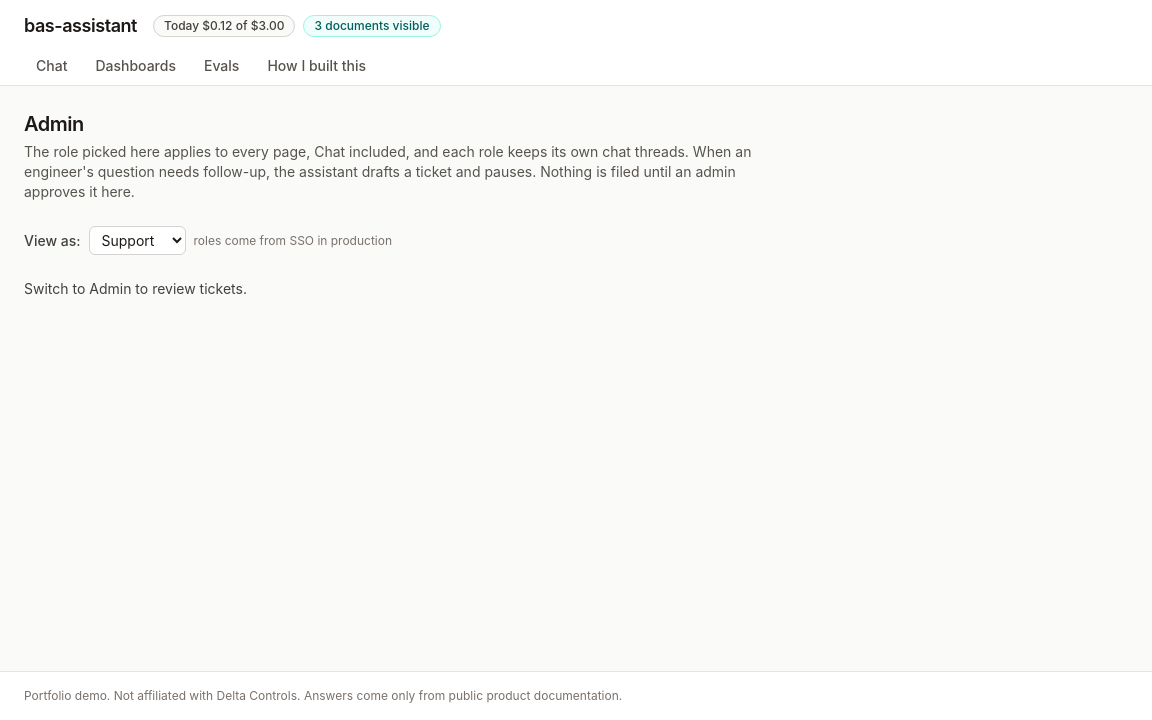
Test: viewing as Engineer on #/admin sends the engineer role and updates the documents count
Expected: the text "3 documents visible" is shown, [304, 15, 440, 37]
Select "Engineer" in the dropdown labelled "View as:" at coordinates (137, 240), box [88, 226, 186, 255]
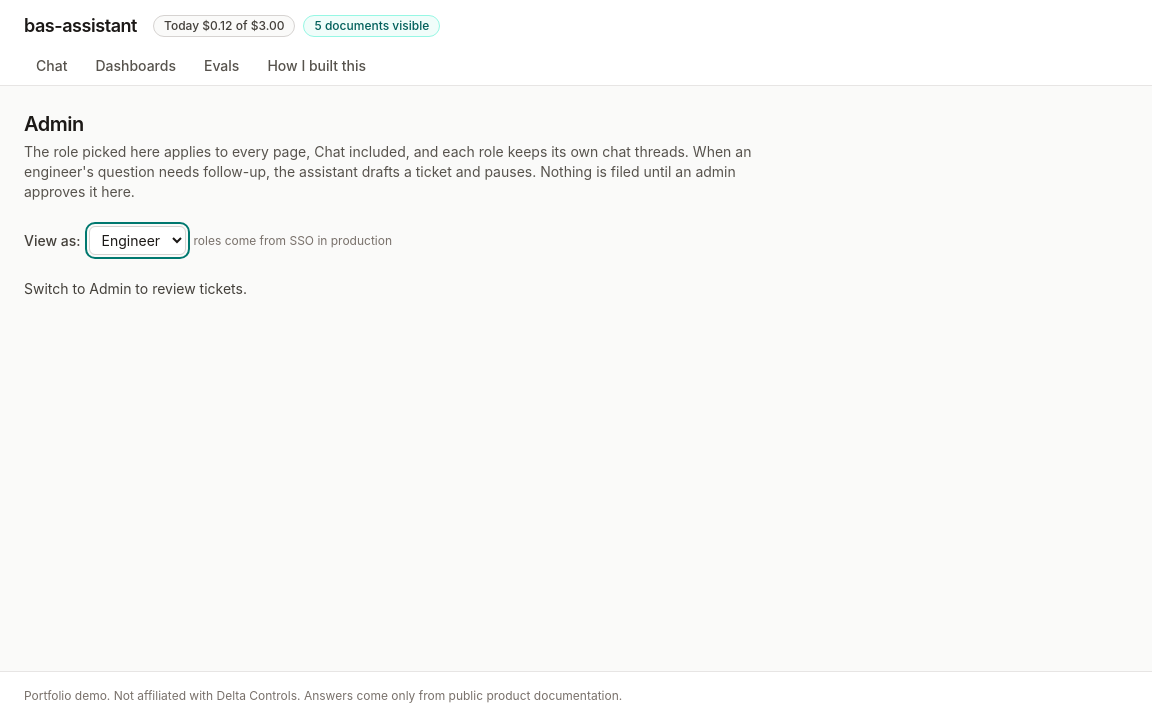
Result: the text "5 documents visible" is shown at [304, 15, 440, 37]
